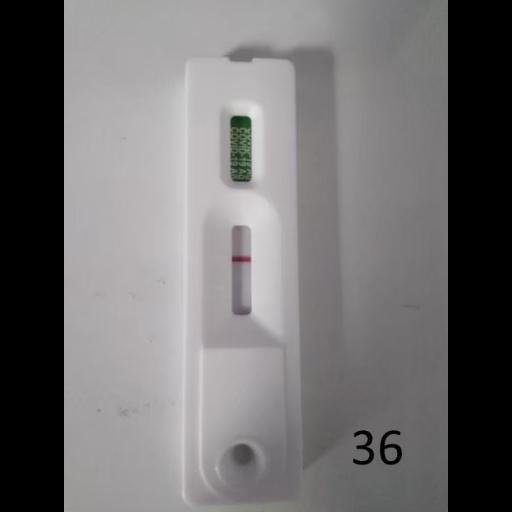Neg: (184, 53, 302, 501)
